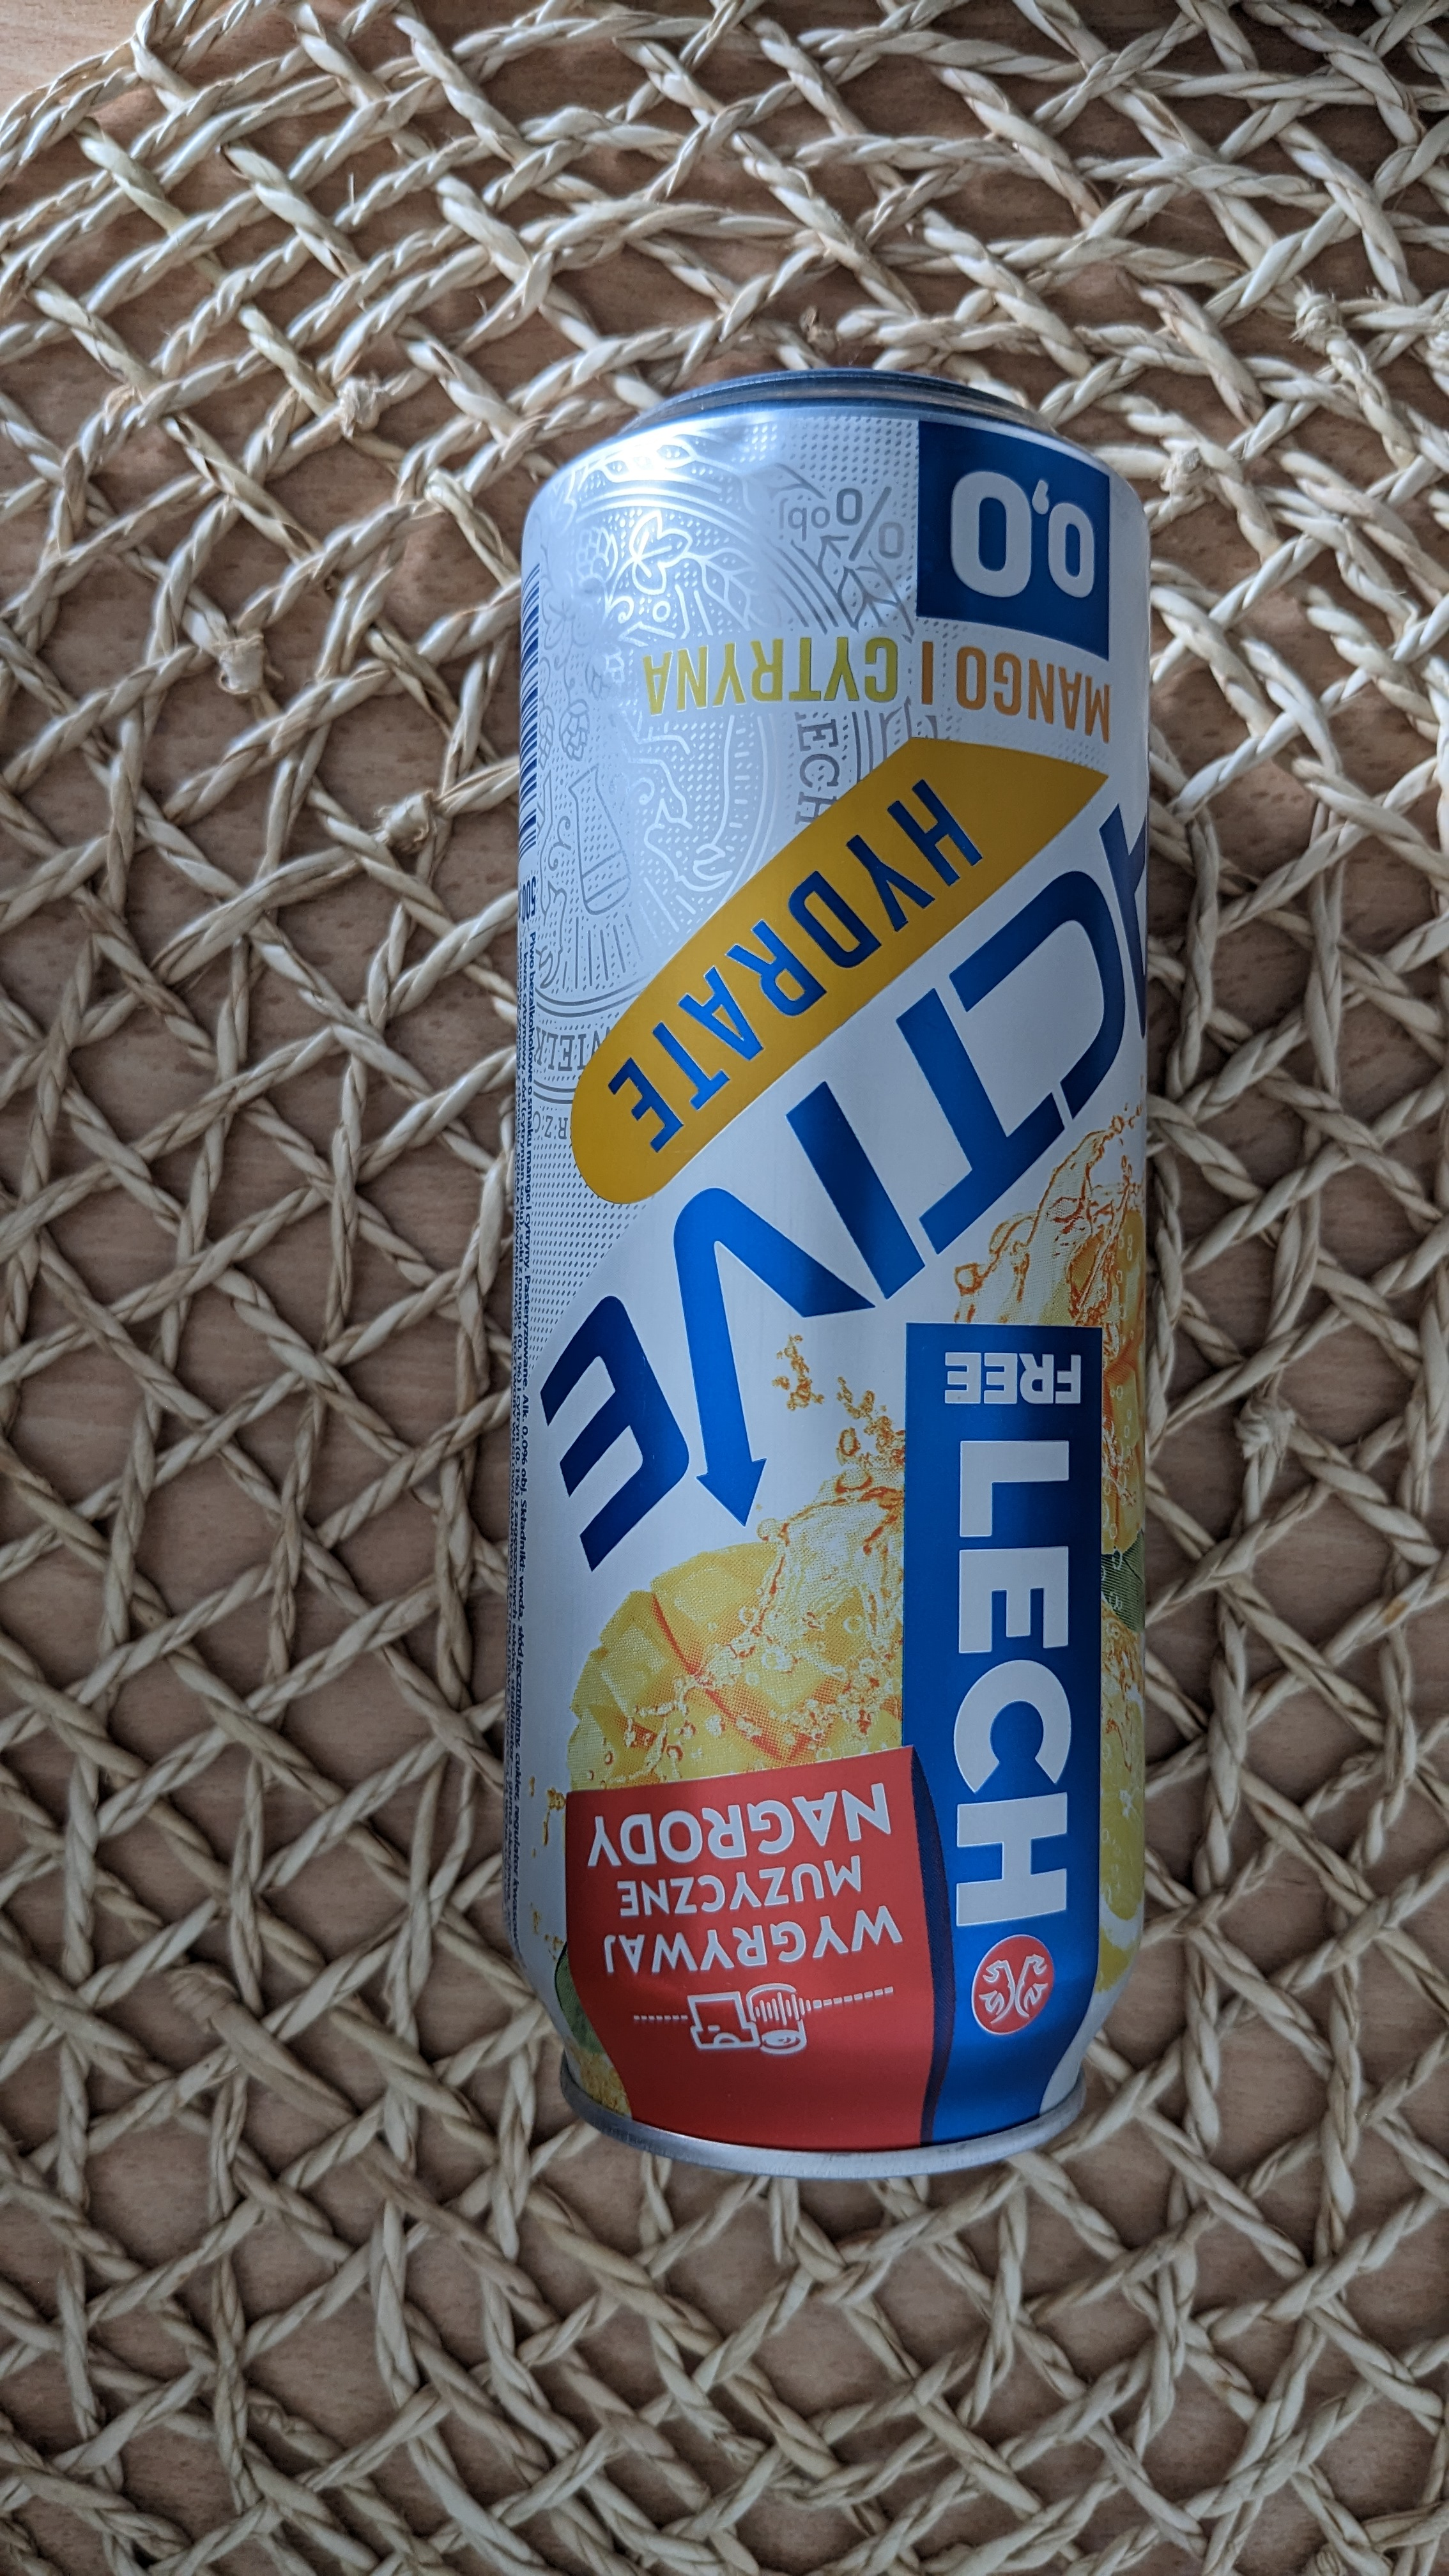lech-active: (455, 363, 1244, 2219)
